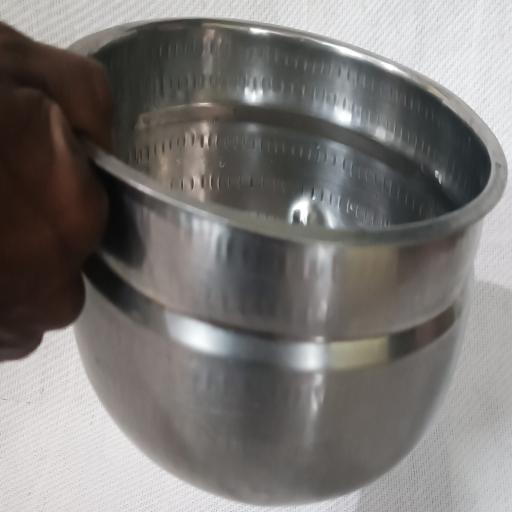vessel: (72, 19, 506, 505)
